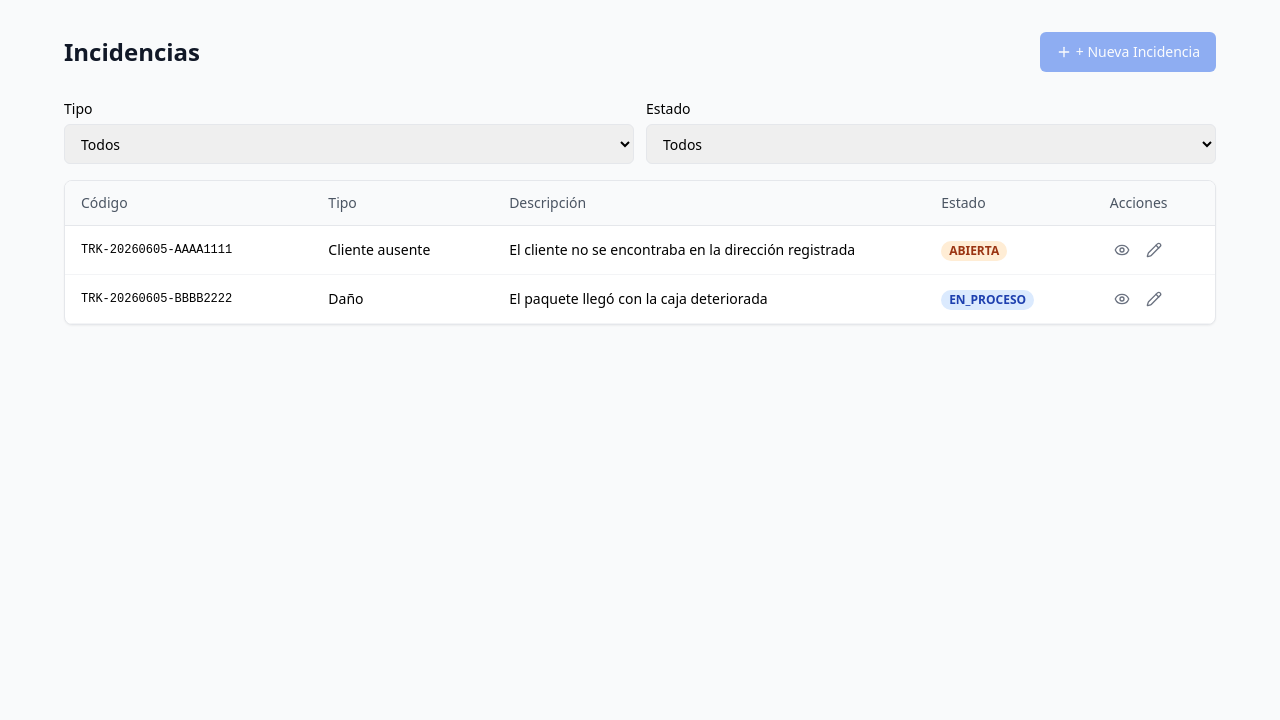
Test case: R28 - debe permitir cambiar el estado de una incidencia desde la acción "editar" › refleja un error de la actualización mediante un Toast sin recargar la página
What coordinates should you click on to do the following:
click the button named "editar incidencia TRK-20260605-BBBB2222"
I would click on:
 (1154, 299)
Its box is top-left (1142, 287), bottom-right (1166, 311).
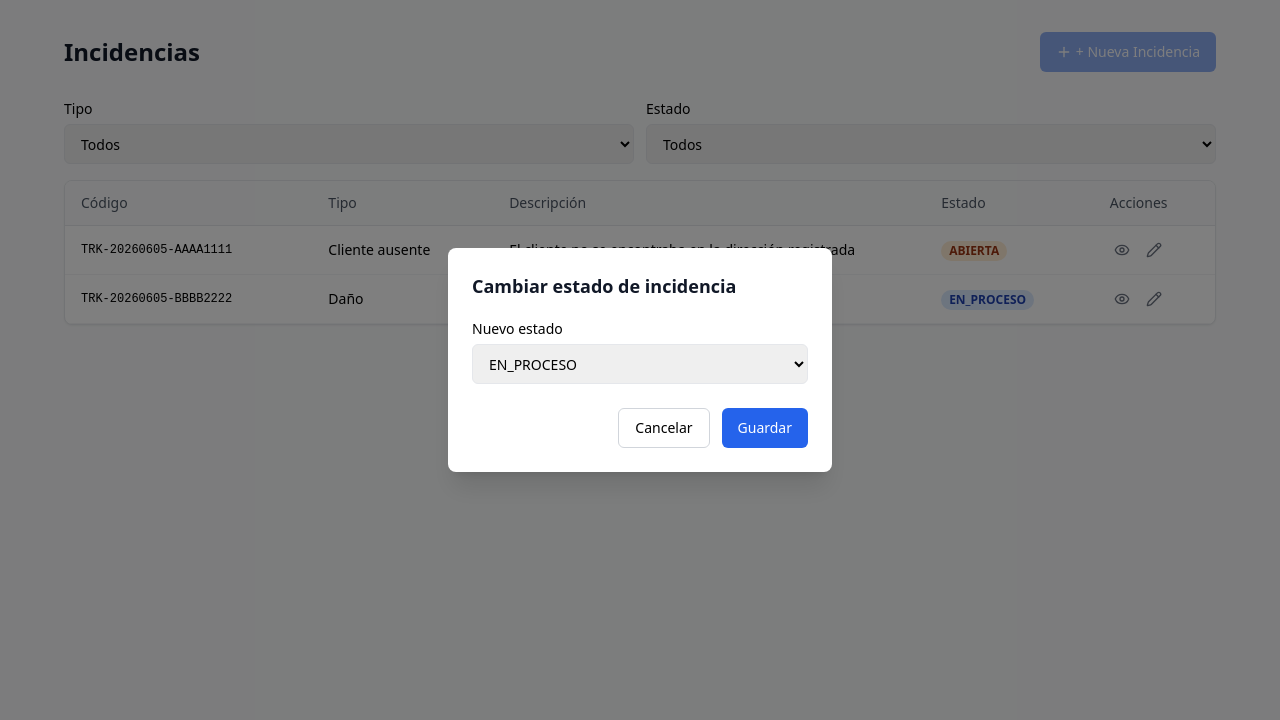
What coordinates should you click on to do the following:
click the button "Guardar"
I would click on:
 (765, 428)
Its box is top-left (722, 408), bottom-right (808, 448).
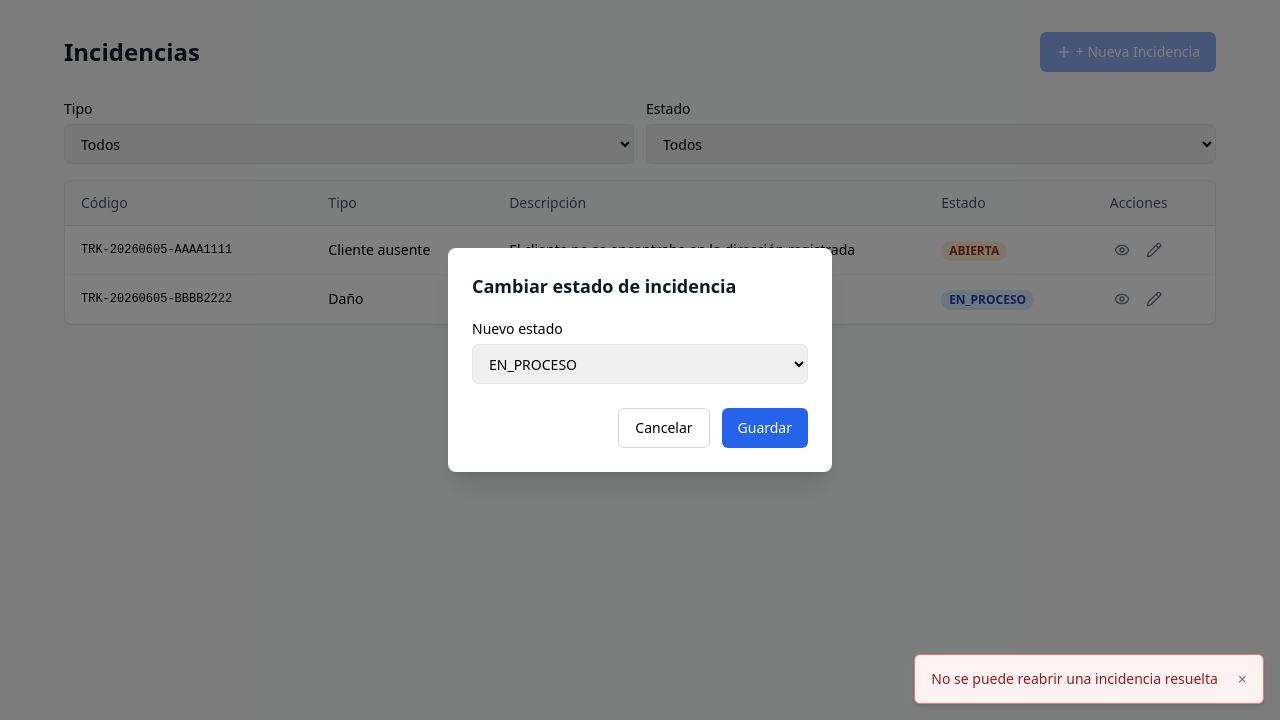
Check: the message shows "No se puede reabrir una incidencia resuelta", box top-left (931, 669), bottom-right (1218, 688)
